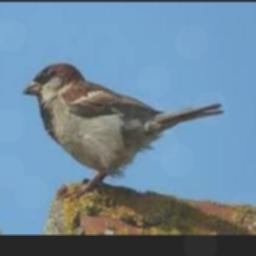Sparrow: (23, 63, 224, 200)
